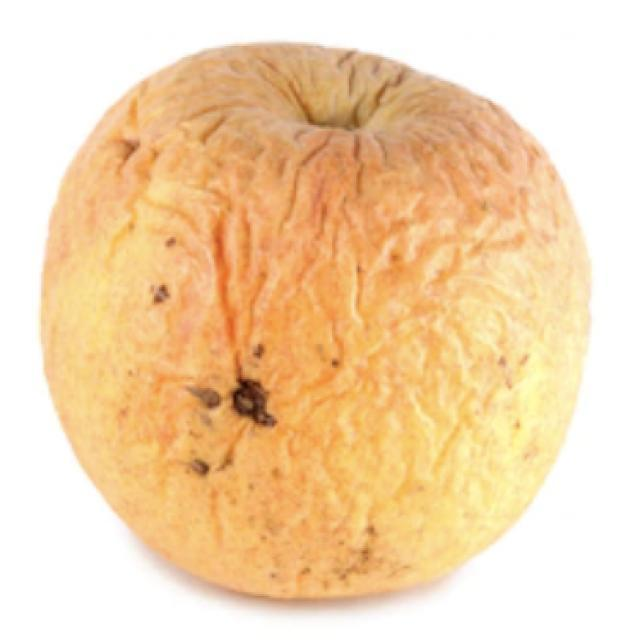Rotten: (58, 47, 577, 598)
